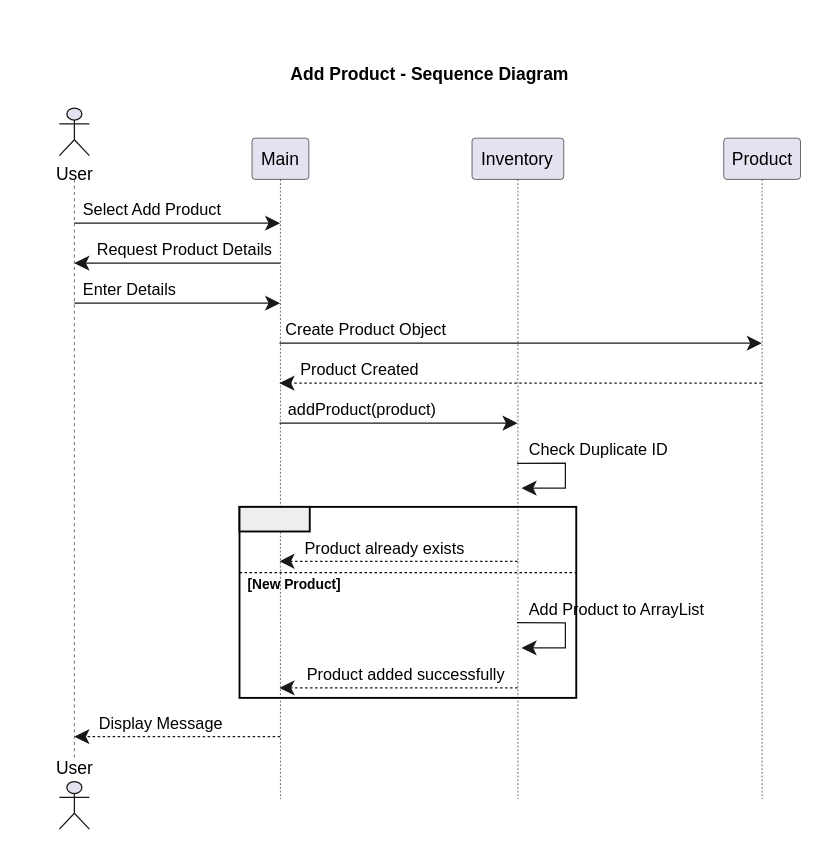
This 823x851 diagram has some shape labels left out. Each missing label, with the centre of its shape:
"[Product ID Exists]" belongs at (407,601).
"alt" belongs at (274,518).
